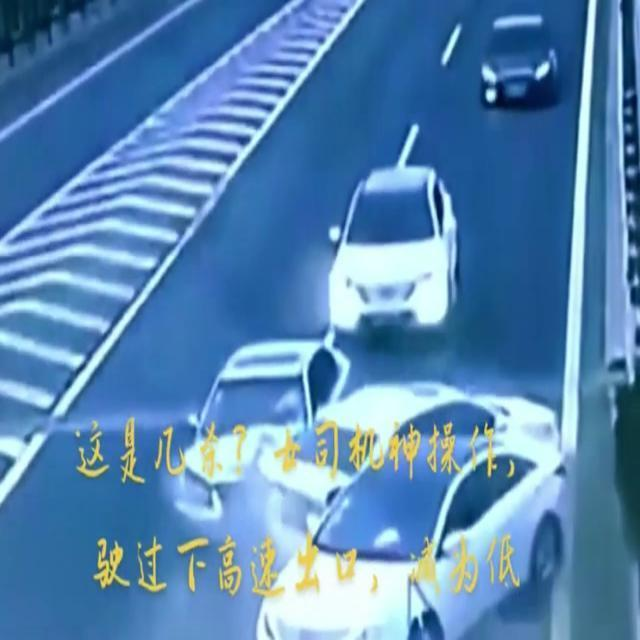accident: (176, 338, 572, 640)
